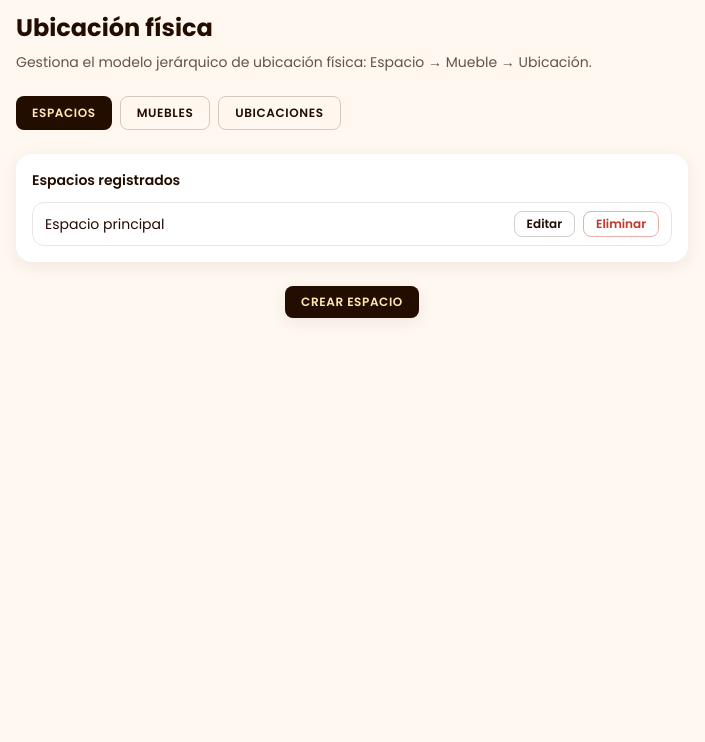
Scenario: GestionUbicacionFisicaComponent › pestaña Ubicaciones › crea una ubicación nueva asociada a un mueble
The image size is (705, 742).
Click the button "Ubicaciones" at (279, 113), box [218,96,341,130]
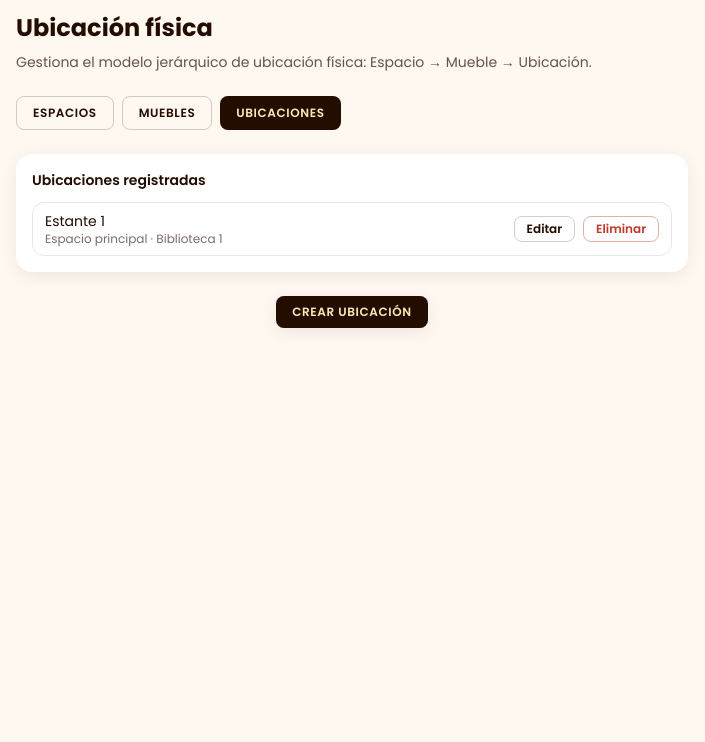
Click the button "Crear ubicación" at (352, 312), box [276,296,428,328]
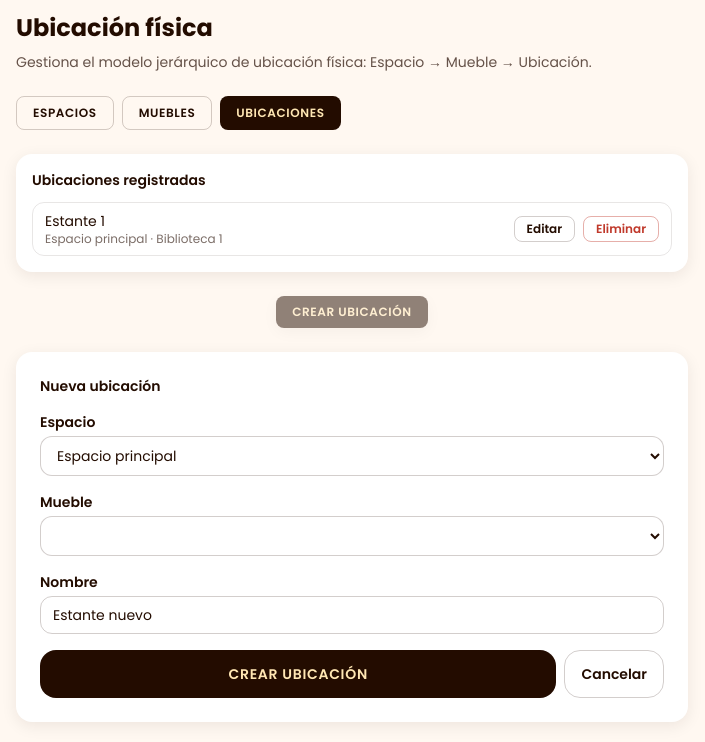
Submit the form, box [16,352,688,722]
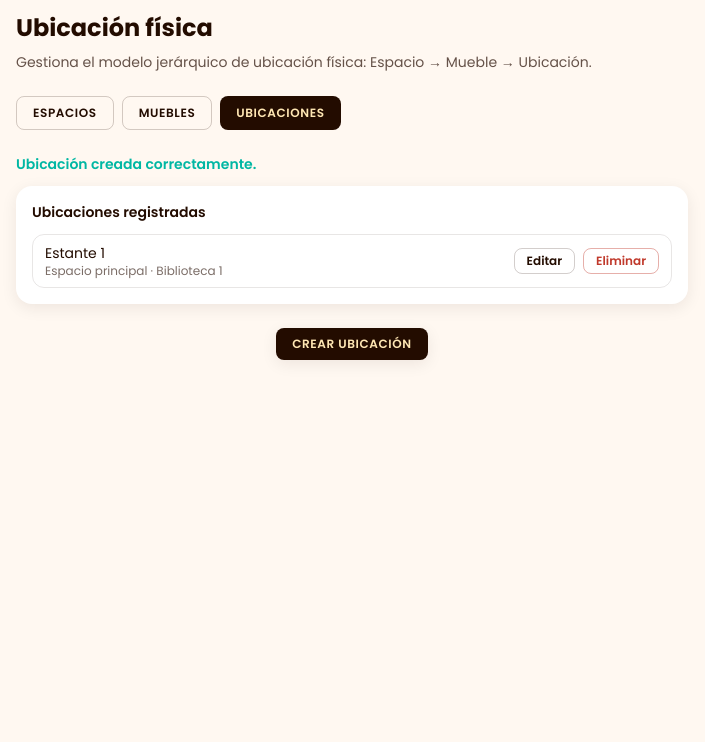
expect the text "Ubicación creada correctamente." is shown: met, box [16,154,256,174]
